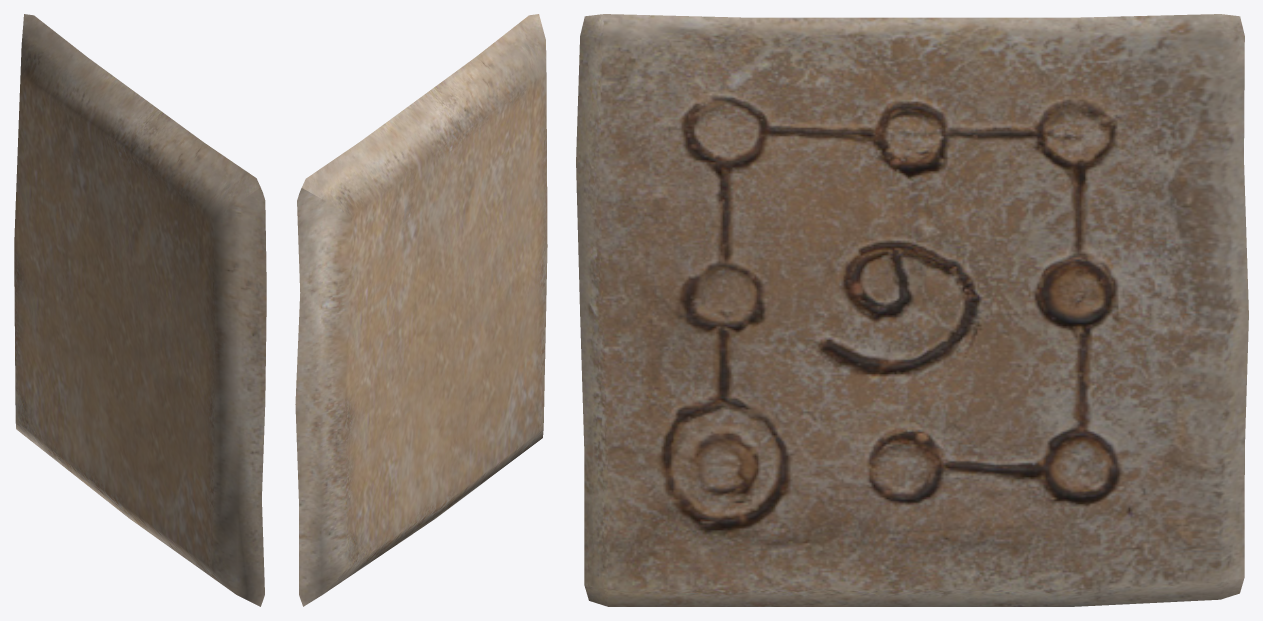
File: side_right.obj
3 renders of one model, left to right at view 1: azimuth 30°, elevation 25°; view 2: azimuth 150°, elevation 25°; view 3: azimuth 270°, elevation 25°, orthographic. The views are drawn at different scales.
Parts seen in each view (by area): view 1: right polySurface3 polySurface1 pCube1; view 2: right polySurface3 polySurface1 pCube1; view 3: right polySurface3 polySurface1 pCube1.
Part boxes in pixels (bbox=[...]): right polySurface3 polySurface1 pCube1: bbox=[14, 14, 266, 606]; right polySurface3 polySurface1 pCube1: bbox=[295, 14, 547, 606]; right polySurface3 polySurface1 pCube1: bbox=[576, 14, 1248, 606].
Bounding box in the file's own units: 0.4298 × 4.77 × 4.91.
